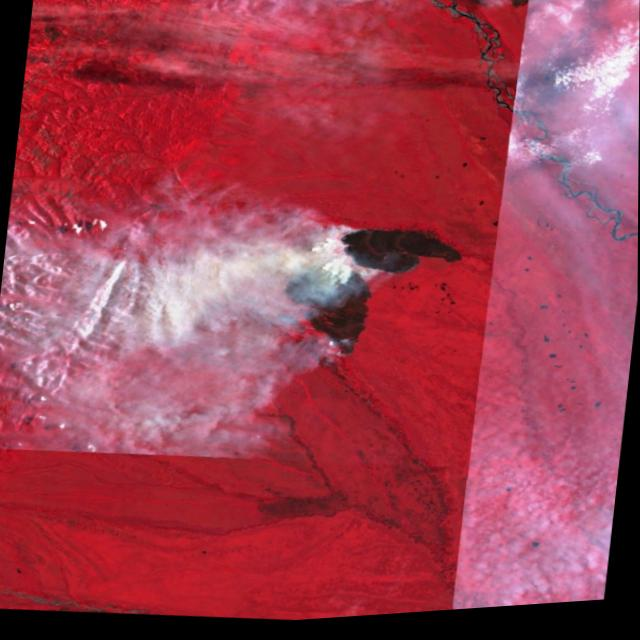fire: (265, 220, 426, 377)
